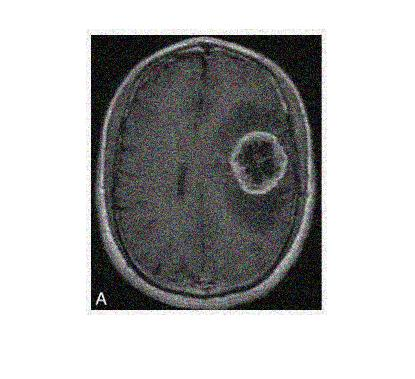Brain_Cancer: (228, 129, 290, 201)
